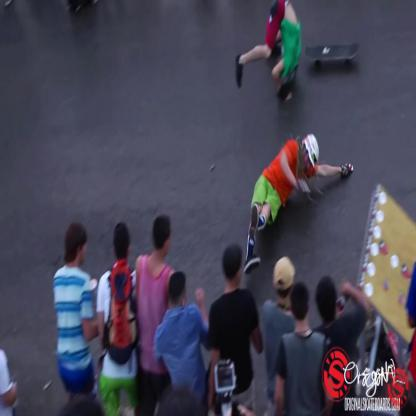Fall_Down: (235, 2, 303, 104)
